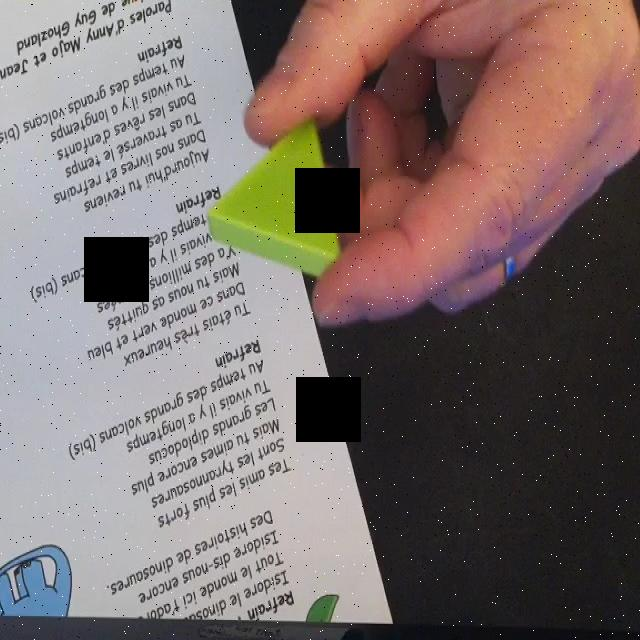triangle: (204, 116, 343, 276)
